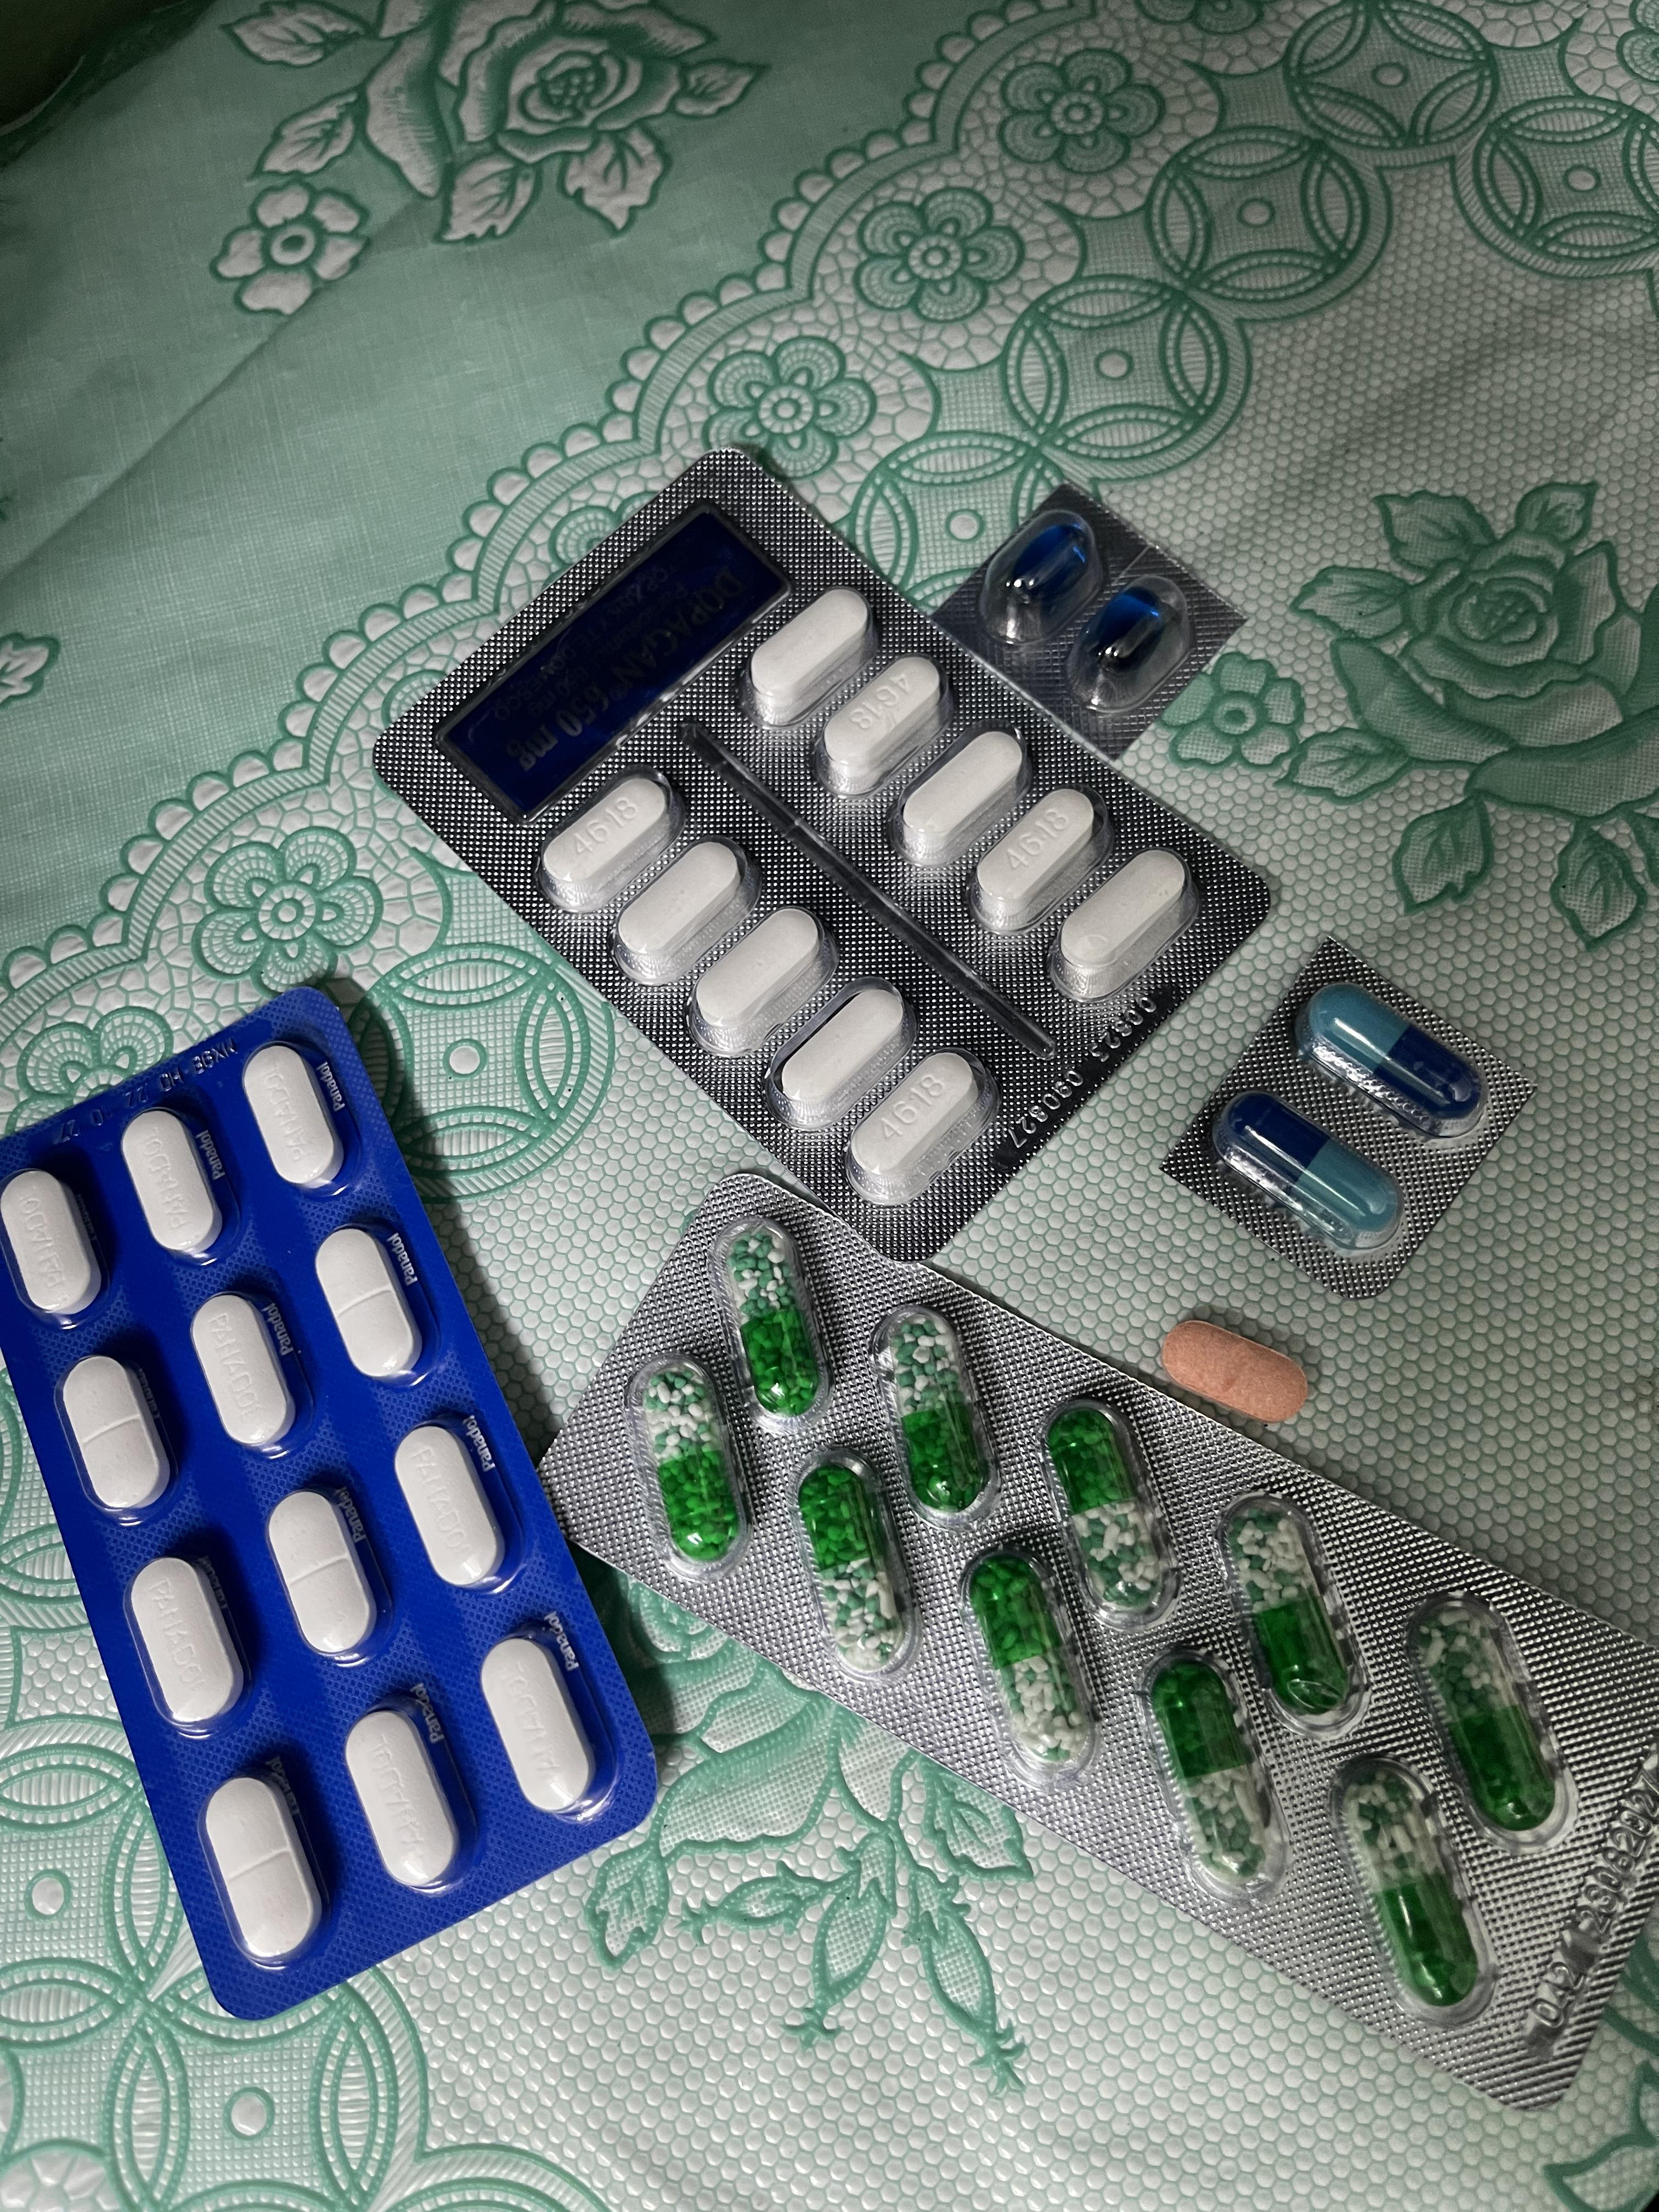Lincomyxin_500mg: (1082, 590, 1171, 685), (1004, 521, 1093, 611)
Loratadine_10mg: (1162, 1320, 1310, 1425)
Paracetamol_350mg: (481, 1629, 605, 1825), (343, 1700, 467, 1893), (204, 1771, 324, 1968), (127, 1552, 246, 1731), (268, 1487, 387, 1665), (394, 1425, 509, 1595), (61, 1355, 171, 1517), (190, 1296, 298, 1458), (315, 1226, 425, 1383), (120, 1111, 223, 1259), (3, 1172, 103, 1322), (242, 1052, 343, 1190)
Paracetamol_500mg: (847, 1050, 992, 1197), (1051, 845, 1190, 996), (687, 895, 824, 1049), (615, 836, 751, 984), (542, 772, 676, 918), (897, 732, 1030, 878), (971, 789, 1100, 934), (777, 986, 910, 1125), (744, 585, 873, 726), (817, 662, 943, 803)
Paracetamol_650mg: (1408, 1590, 1574, 1846), (1335, 1757, 1493, 2022), (1154, 1651, 1286, 1895), (1232, 1493, 1363, 1710), (1042, 1402, 1169, 1625), (629, 1362, 751, 1576), (969, 1561, 1091, 1773), (795, 1458, 913, 1676), (875, 1310, 993, 1522), (713, 1211, 828, 1409)
pill: (1213, 1089, 1403, 1259), (1297, 982, 1485, 1148)
